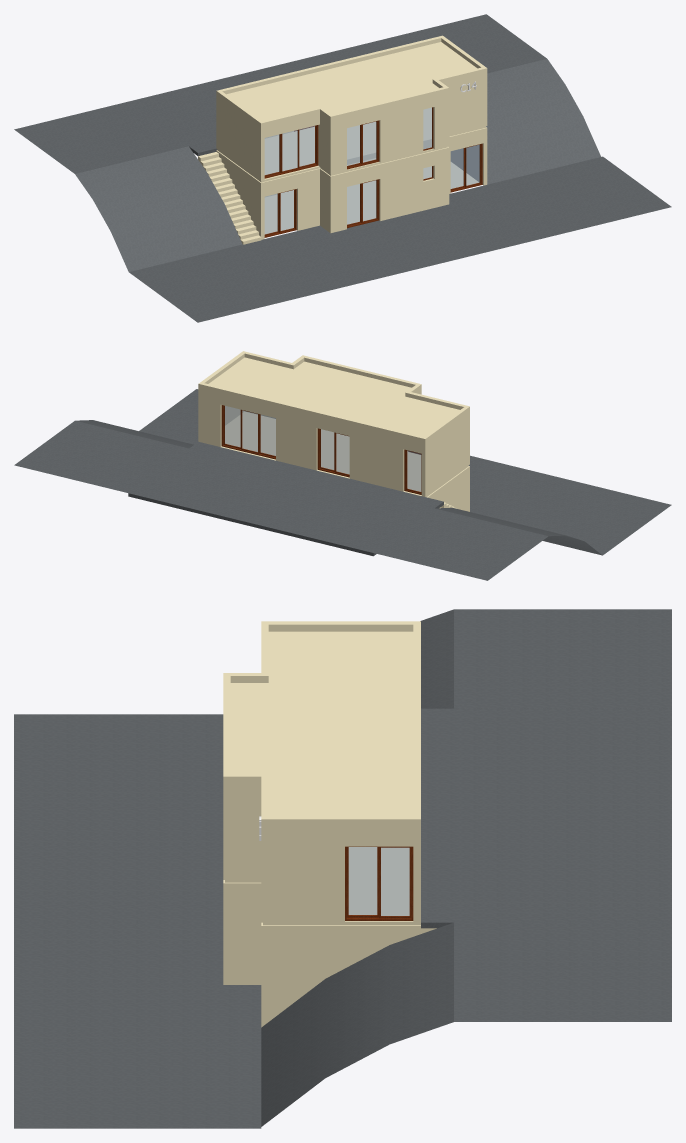
The picture shows the model from 3 angles, top to bottom: view 1: azimuth 30°, elevation 25°; view 2: azimuth 150°, elevation 25°; view 3: azimuth 270°, elevation 25°; orthographic projection. The views are drawn at different scales.
Parts seen in each view (by area): view 1: 19827, 19807 (×2), 18941, 17029, 18691, 19815, 18744, Component#1 (×4), 19753, 24723; view 2: 18744, 17029, 19827, 18691, 19815, 19753, 25199, 18941, 19807 (×2), Component#1, 17334; view 3: 19827, 18744, 18691, 19807 (×2), 19753, 19815, 17029, 18941, Component#1.
Part boxes in pixels (x1,y1,x2,y2): 19827: [129, 156, 671, 322]; 19807 (×2): [75, 59, 600, 271]; 18941: [216, 80, 487, 239]; 17029: [216, 35, 487, 180]; 18691: [226, 42, 477, 120]; 19815: [14, 101, 188, 173]; 18744: [128, 42, 382, 156]; Component#1 (×4): [264, 120, 482, 237]; 19753: [373, 14, 546, 73]; 24723: [264, 125, 318, 178]; 18744: [128, 441, 443, 556]; 17029: [198, 351, 469, 496]; 19827: [139, 389, 671, 555]; 18691: [208, 357, 459, 436]; 19815: [374, 508, 548, 580]; 19753: [14, 420, 188, 492]; 25199: [221, 405, 275, 459]; 18941: [223, 355, 469, 511]; 19807 (×2): [76, 420, 602, 555]; Component#1: [317, 428, 349, 477]; 17334: [404, 449, 421, 494]; 19827: [14, 714, 261, 1128]; 18744: [421, 708, 671, 928]; 18691: [230, 631, 413, 815]; 19807 (×2): [261, 609, 453, 1126]; 19753: [454, 922, 671, 1021]; 19815: [454, 609, 671, 708]; 17029: [261, 621, 420, 922]; 18941: [223, 673, 436, 1027]; Component#1: [345, 846, 413, 920].
Bounding box in the file's own units: 25.77 × 6.23 × 17.3.
404 materials, 148 textured.
